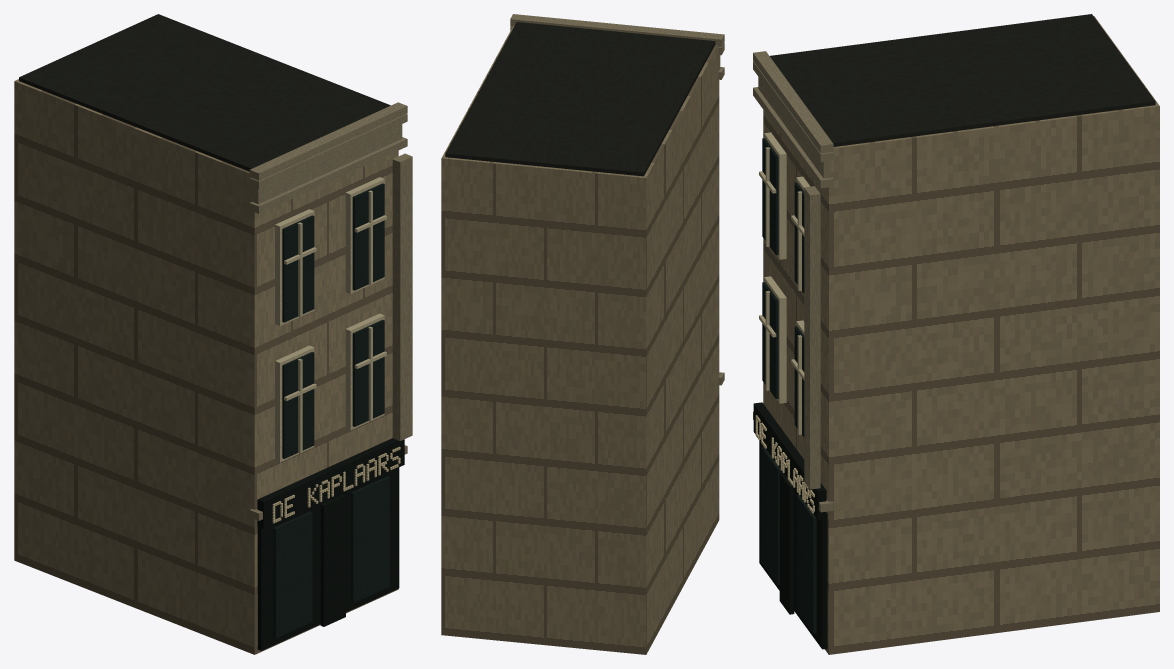
3 views of the same model, side by side, from view 1: azimuth 30°, elevation 25°; view 2: azimuth 150°, elevation 25°; view 3: azimuth 270°, elevation 25° (orthographic). The views are drawn at different scales.
Parts seen in each view (by area): view 1: kaplaars-hoogstraat-0, kaplaars-hoogstraat-6, kaplaars-hoogstraat-2, kaplaars-hoogstraat-3, kaplaars-hoogstraat-4, kaplaars-hoogstraat-1, kaplaars-hoogstraat-5; view 2: kaplaars-hoogstraat-0, kaplaars-hoogstraat-6, kaplaars-hoogstraat-3; view 3: kaplaars-hoogstraat-0, kaplaars-hoogstraat-6, kaplaars-hoogstraat-3, kaplaars-hoogstraat-2, kaplaars-hoogstraat-4, kaplaars-hoogstraat-1, kaplaars-hoogstraat-5.
Boxes of the visible parts, x1,y1,x2,y2 form: kaplaars-hoogstraat-0: [14, 79, 398, 654]; kaplaars-hoogstraat-6: [19, 14, 390, 171]; kaplaars-hoogstraat-2: [273, 183, 389, 638]; kaplaars-hoogstraat-3: [249, 102, 412, 520]; kaplaars-hoogstraat-4: [257, 438, 404, 650]; kaplaars-hoogstraat-1: [275, 177, 386, 462]; kaplaars-hoogstraat-5: [272, 446, 400, 523]; kaplaars-hoogstraat-0: [441, 25, 719, 654]; kaplaars-hoogstraat-6: [445, 22, 715, 176]; kaplaars-hoogstraat-3: [510, 14, 724, 385]; kaplaars-hoogstraat-0: [763, 16, 1159, 654]; kaplaars-hoogstraat-6: [770, 14, 1155, 146]; kaplaars-hoogstraat-3: [753, 51, 833, 512]; kaplaars-hoogstraat-2: [761, 138, 816, 633]; kaplaars-hoogstraat-4: [753, 402, 827, 649]; kaplaars-hoogstraat-1: [759, 132, 810, 434]; kaplaars-hoogstraat-5: [755, 415, 814, 513].
Size of the model in its own units: 6.68 by 11.74 by 8.46.
7 materials, 7 textured.
